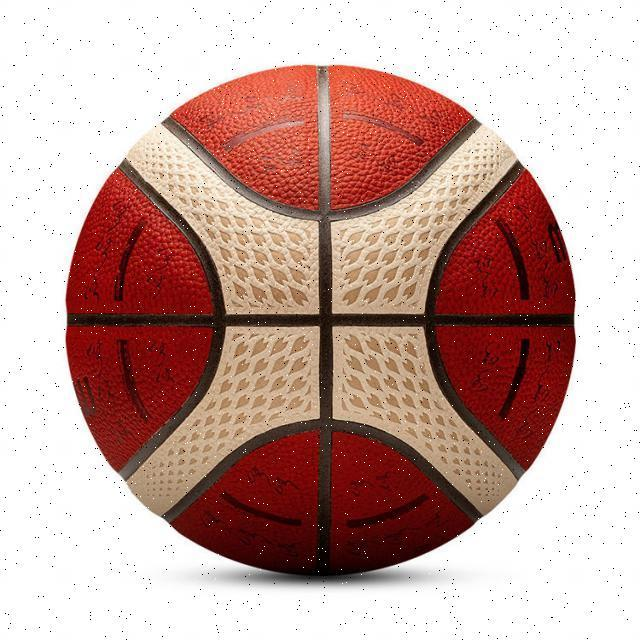ball: (54, 55, 578, 582)
